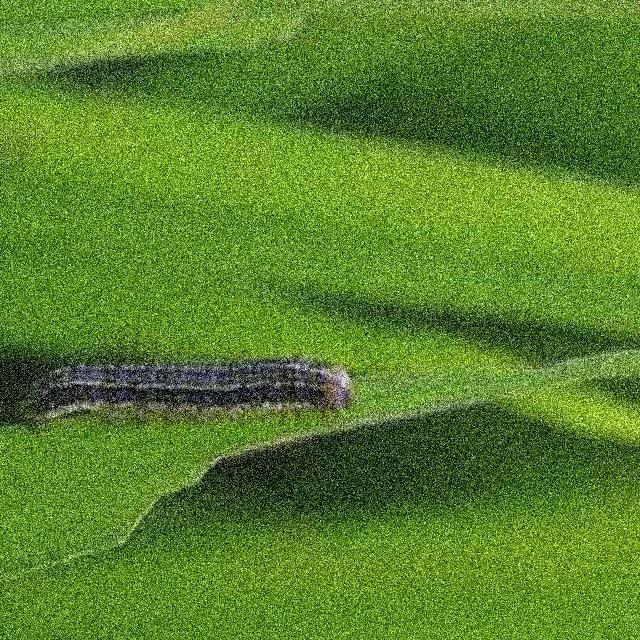gusano_cogollero: (24, 353, 364, 437)
